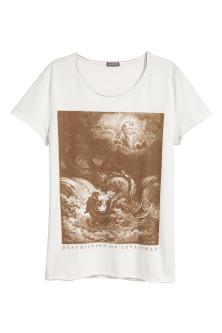teeshirt: (8, 8, 214, 325)
